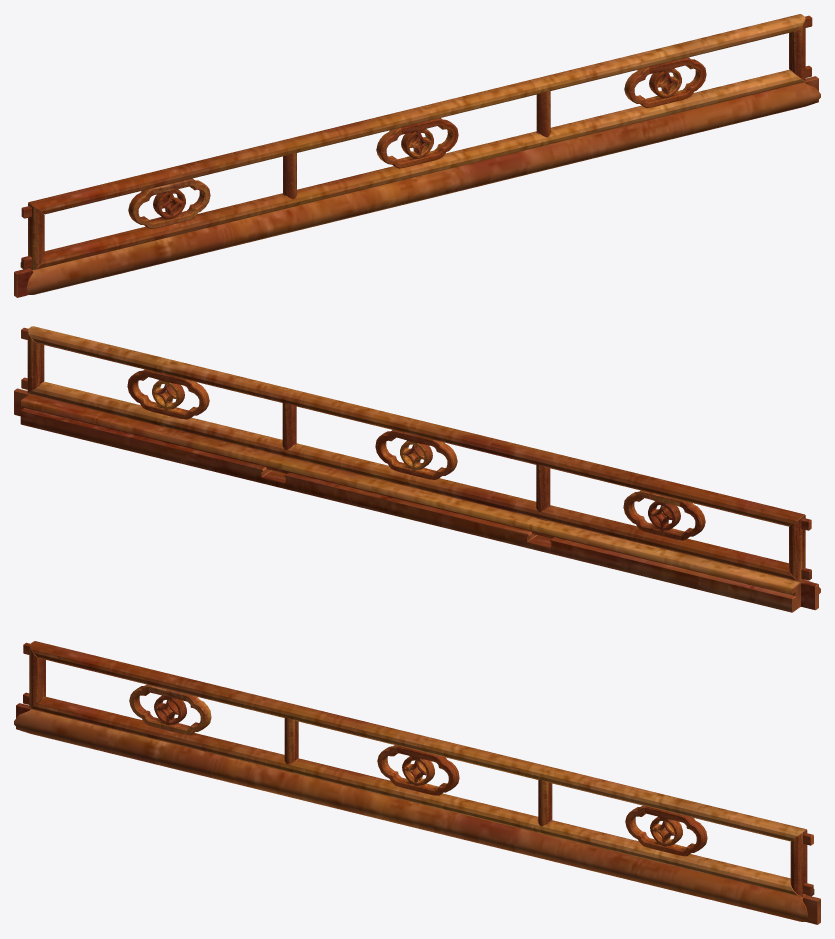
Rendered from SJ_J_H_dgdb_1_004.FBX.
3 renders of one model, top to bottom at view 1: azimuth 30°, elevation 25°; view 2: azimuth 150°, elevation 25°; view 3: azimuth 330°, elevation 25°, orthographic.
Parts seen in each view (by area): view 1: SJ_J_dgdb_1_004; view 2: SJ_J_dgdb_1_004; view 3: SJ_J_dgdb_1_004.
Part boxes in pixels (left/top/right/bottom): SJ_J_dgdb_1_004: left=14, top=14, right=820, bottom=297; SJ_J_dgdb_1_004: left=14, top=326, right=820, bottom=612; SJ_J_dgdb_1_004: left=14, top=641, right=820, bottom=924.
Size of the model in its own units: 103 by 11.01 by 3.94.
2 materials, 2 textured.
